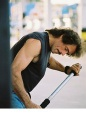male: (51, 33, 79, 63)
